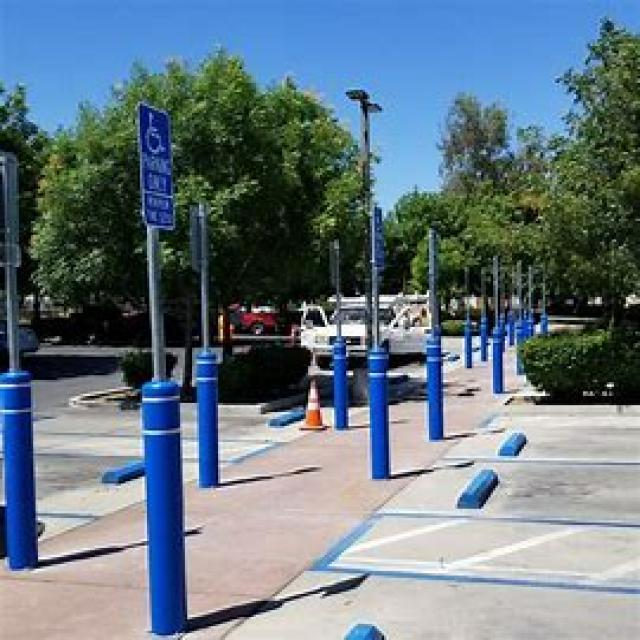symbol_of_access: (144, 110, 170, 165)
